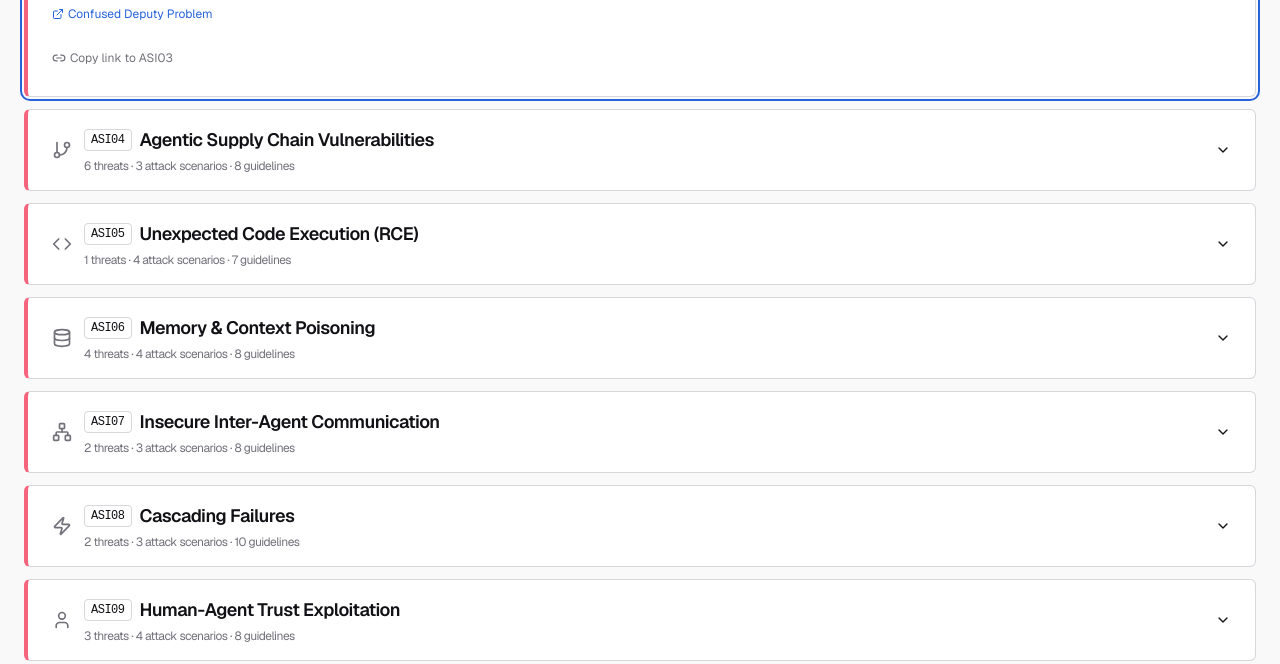
it: Taxonomy ?tab=&entry= deep links › selects the OWASP tab and expands the entry; user selection rewrites ?entry=
(page scrolled)
Click the button that starts with "ASI06". click: (108, 328)
box: [28,298,1255,378]
(page scrolled)
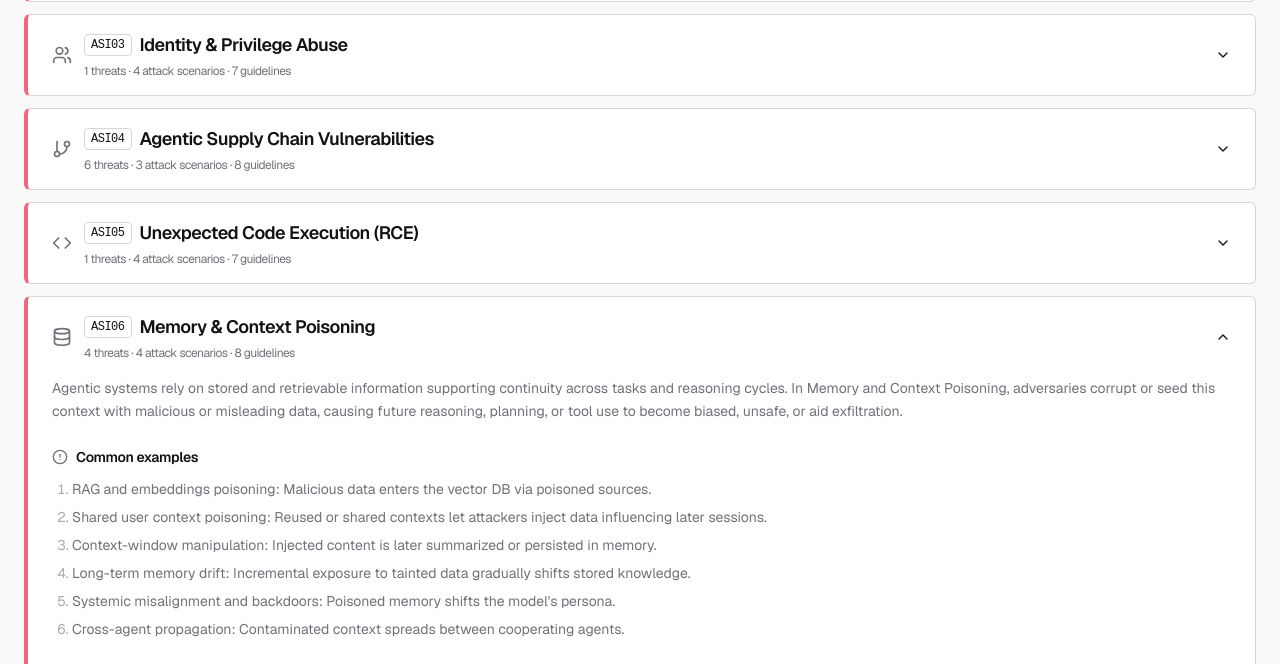
Result: the button that starts with "ASI06" is expanded at [28,297,1255,377]
